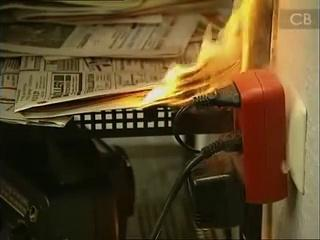Fire: (141, 0, 274, 104)
